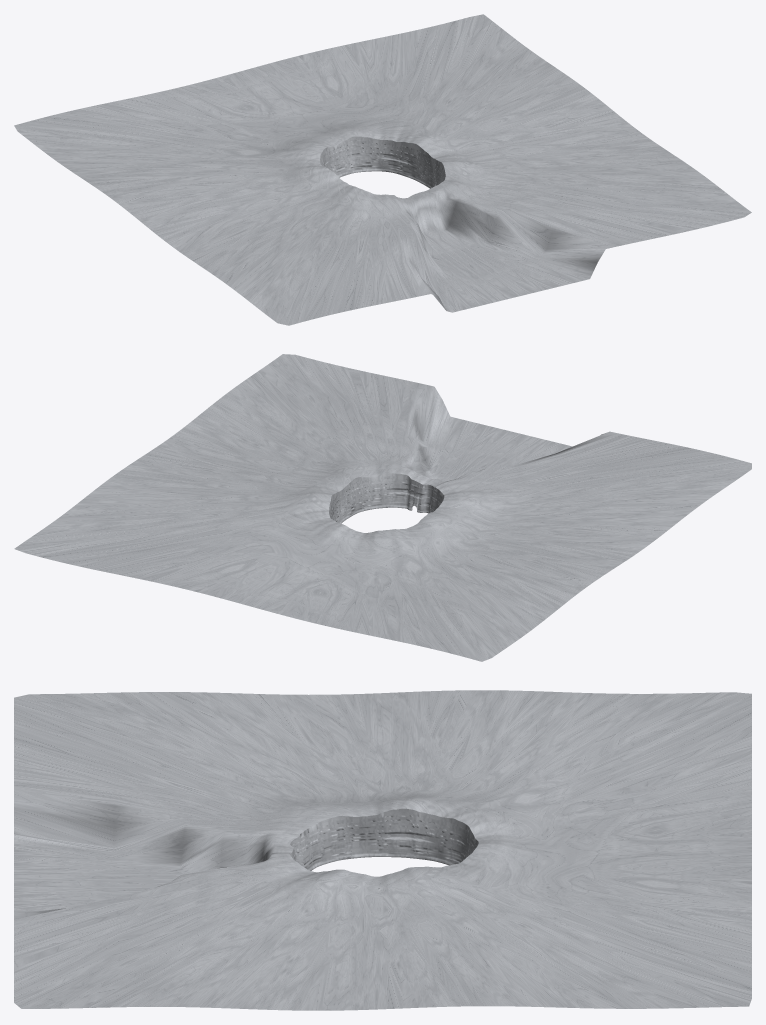
File: excavation-macro-lod0.glb
3 views of the same model, one above another, from view 1: azimuth 30°, elevation 25°; view 2: azimuth 150°, elevation 25°; view 3: azimuth 270°, elevation 25° (orthographic). The views are drawn at different scales.
Visible parts, largest first — view 1: Excavation_Macro_Sector_06_LOD0, Excavation_Macro_Sector_00_LOD0, Excavation_Macro_Sector_05_LOD0, Excavation_Macro_Sector_02_LOD0, Excavation_Macro_Sector_04_LOD0, Excavation_Macro_Sector_15_LOD0, Excavation_Macro_Sector_07_LOD0, Excavation_Macro_Sector_08_LOD0, Excavation_Macro_Sector_13_LOD0, Excavation_Macro_Sector_10_LOD0, Excavation_Macro_Sector_17_LOD0, Excavation_Macro_Sector_12_LOD0 (+5 smaller); view 2: Excavation_Macro_Sector_06_LOD0, Excavation_Macro_Sector_02_LOD0, Excavation_Macro_Sector_04_LOD0, Excavation_Macro_Sector_15_LOD0, Excavation_Macro_Sector_05_LOD0, Excavation_Macro_Sector_10_LOD0, Excavation_Macro_Sector_07_LOD0, Excavation_Macro_Sector_13_LOD0, Excavation_Macro_Sector_00_LOD0, Excavation_Macro_Sector_08_LOD0, Excavation_Macro_Sector_12_LOD0, Excavation_Macro_Sector_17_LOD0 (+5 smaller); view 3: Excavation_Macro_Sector_06_LOD0, Excavation_Macro_Sector_17_LOD0, Excavation_Macro_Sector_02_LOD0, Excavation_Macro_Sector_04_LOD0, Excavation_Macro_Sector_05_LOD0, Excavation_Macro_Sector_15_LOD0, Excavation_Macro_Sector_10_LOD0, Excavation_Macro_Sector_13_LOD0, Excavation_Macro_Sector_07_LOD0, Excavation_Macro_Sector_08_LOD0, Excavation_Macro_Sector_12_LOD0, Excavation_Macro_Sector_09_LOD0 (+5 smaller).
Boxes of the visible parts, box(x1,y1,x2,y2) form: Excavation_Macro_Sector_06_LOD0: box(383, 14, 542, 177); Excavation_Macro_Sector_00_LOD0: box(412, 183, 621, 299); Excavation_Macro_Sector_05_LOD0: box(409, 59, 630, 187); Excavation_Macro_Sector_02_LOD0: box(441, 170, 751, 244); Excavation_Macro_Sector_04_LOD0: box(428, 125, 721, 189); Excavation_Macro_Sector_15_LOD0: box(226, 186, 372, 325); Excavation_Macro_Sector_07_LOD0: box(256, 36, 386, 172); Excavation_Macro_Sector_08_LOD0: box(134, 67, 353, 177); Excavation_Macro_Sector_13_LOD0: box(139, 174, 351, 274); Excavation_Macro_Sector_10_LOD0: box(14, 109, 324, 166); Excavation_Macro_Sector_17_LOD0: box(383, 194, 502, 312); Excavation_Macro_Sector_12_LOD0: box(80, 166, 335, 219); Excavation_Macro_Sector_06_LOD0: box(14, 498, 332, 572); Excavation_Macro_Sector_02_LOD0: box(266, 354, 416, 510); Excavation_Macro_Sector_04_LOD0: box(162, 375, 362, 520); Excavation_Macro_Sector_15_LOD0: box(442, 452, 751, 510); Excavation_Macro_Sector_05_LOD0: box(74, 443, 344, 523); Excavation_Macro_Sector_10_LOD0: box(393, 526, 521, 661); Excavation_Macro_Sector_07_LOD0: box(110, 516, 346, 603); Excavation_Macro_Sector_13_LOD0: box(430, 505, 686, 569); Excavation_Macro_Sector_00_LOD0: box(391, 383, 536, 512); Excavation_Macro_Sector_08_LOD0: box(240, 526, 379, 633); Excavation_Macro_Sector_12_LOD0: box(419, 513, 612, 612); Excavation_Macro_Sector_17_LOD0: box(418, 431, 654, 513); Excavation_Macro_Sector_06_LOD0: box(419, 864, 751, 1008); Excavation_Macro_Sector_17_LOD0: box(14, 762, 313, 880); Excavation_Macro_Sector_02_LOD0: box(14, 861, 326, 1008); Excavation_Macro_Sector_04_LOD0: box(104, 869, 376, 1010); Excavation_Macro_Sector_05_LOD0: box(348, 867, 587, 1010); Excavation_Macro_Sector_15_LOD0: box(14, 692, 346, 864); Excavation_Macro_Sector_10_LOD0: box(427, 692, 751, 865); Excavation_Macro_Sector_13_LOD0: box(204, 692, 405, 858); Excavation_Macro_Sector_07_LOD0: box(457, 843, 751, 942); Excavation_Macro_Sector_08_LOD0: box(462, 775, 751, 860); Excavation_Macro_Sector_12_LOD0: box(387, 690, 564, 858); Excavation_Macro_Sector_09_LOD0: box(450, 735, 751, 865).
Bounding box in the file's own units: 560 × 40.23 × 560.
Materials: 1 (1 with a texture image).
